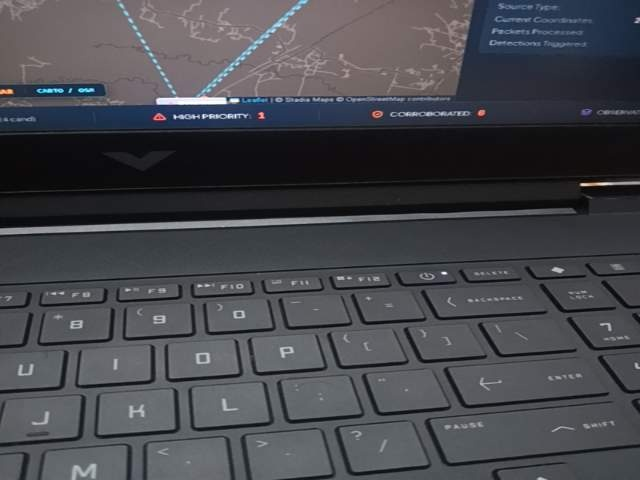pothole: (105, 403, 313, 480), (536, 403, 640, 480)
